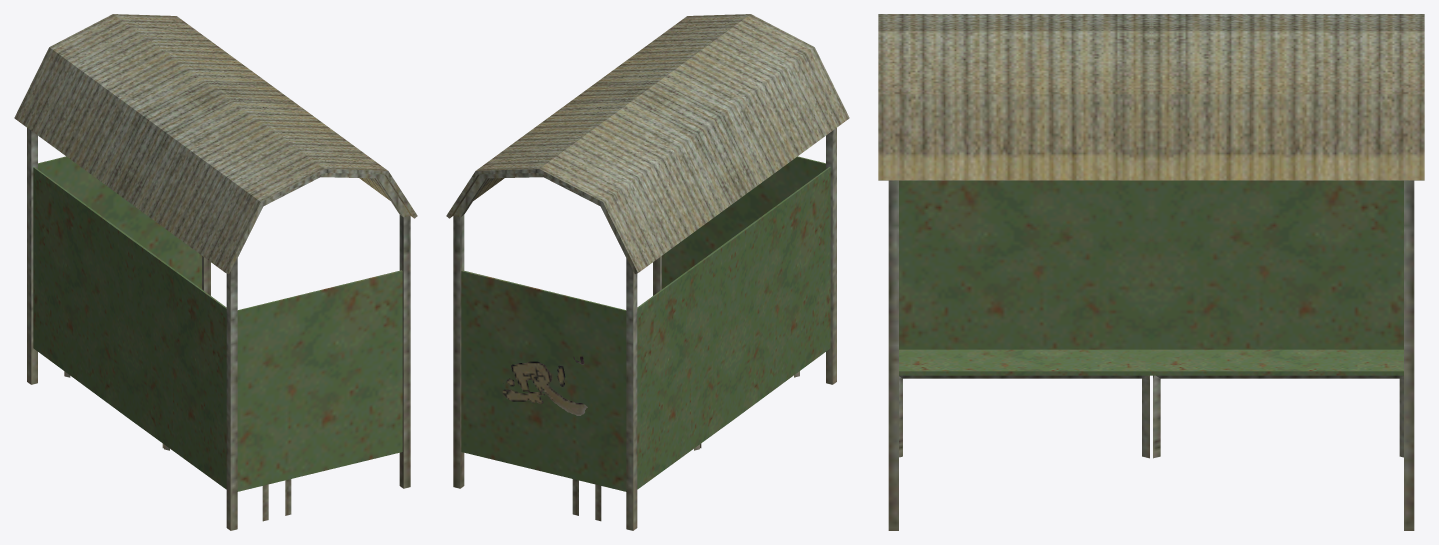
The model's file is Urban_BusstopGraffitiRoundRoof_Model.fbx.
3 views of the same model, side by side, from view 1: azimuth 30°, elevation 25°; view 2: azimuth 150°, elevation 25°; view 3: azimuth 270°, elevation 25° (orthographic). The views are drawn at different scales.
Visible parts, largest first — view 1: Urban_BusstopGraffitiRoundRoof_Mesh; view 2: Urban_BusstopGraffitiRoundRoof_Mesh; view 3: Urban_BusstopGraffitiRoundRoof_Mesh.
Boxes of the visible parts, x1=… form: Urban_BusstopGraffitiRoundRoof_Mesh: x1=14, y1=14, x2=417, y2=530; Urban_BusstopGraffitiRoundRoof_Mesh: x1=446, y1=14, x2=849, y2=530; Urban_BusstopGraffitiRoundRoof_Mesh: x1=878, y1=14, x2=1424, y2=530.
Bounding box in the file's own units: 2.22 × 3.8 × 4.24.
